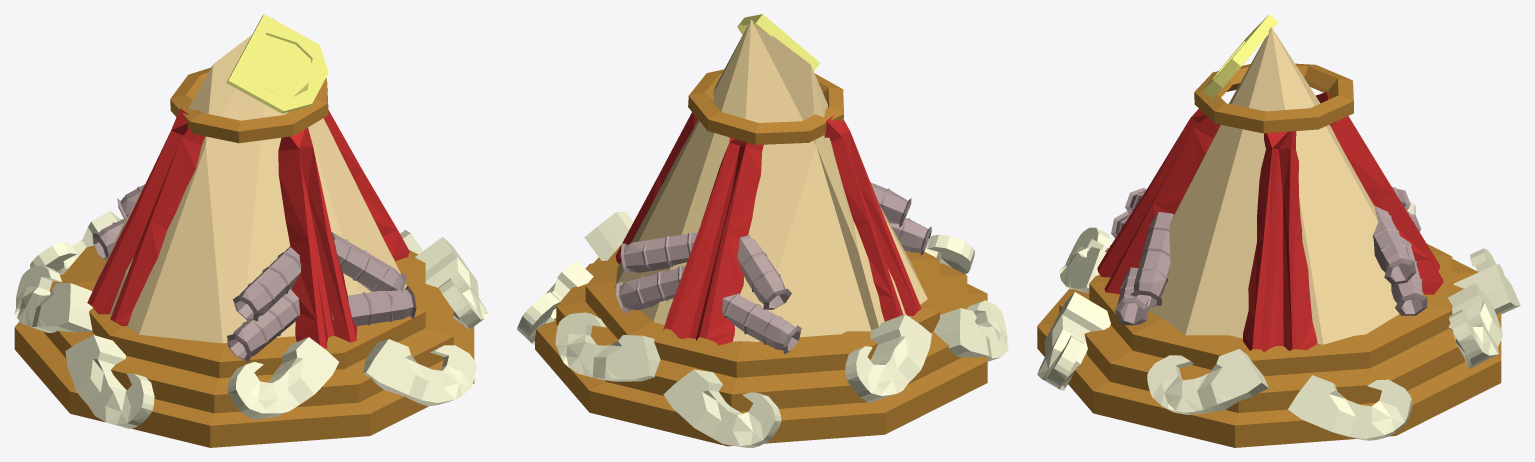
Rendered from Torre español_2.fbx.
The picture shows the model from 3 angles, left to right: view 1: azimuth 30°, elevation 25°; view 2: azimuth 150°, elevation 25°; view 3: azimuth 270°, elevation 25°; orthographic projection. The views are drawn at different scales.
Visible parts, largest first — view 1: totem_español_segundo_daño; view 2: totem_español_segundo_daño; view 3: totem_español_segundo_daño.
Boxes of the visible parts, bbox=[...] form: totem_español_segundo_daño: bbox=[14, 14, 488, 447]; totem_español_segundo_daño: bbox=[517, 14, 1008, 447]; totem_español_segundo_daño: bbox=[1037, 14, 1520, 447].
Size of the model in its own units: 14.53 by 11.77 by 14.92.
